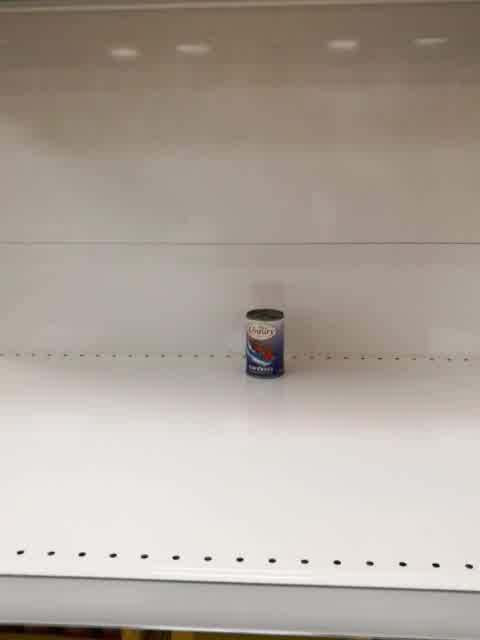sardine: (244, 308, 286, 379)
